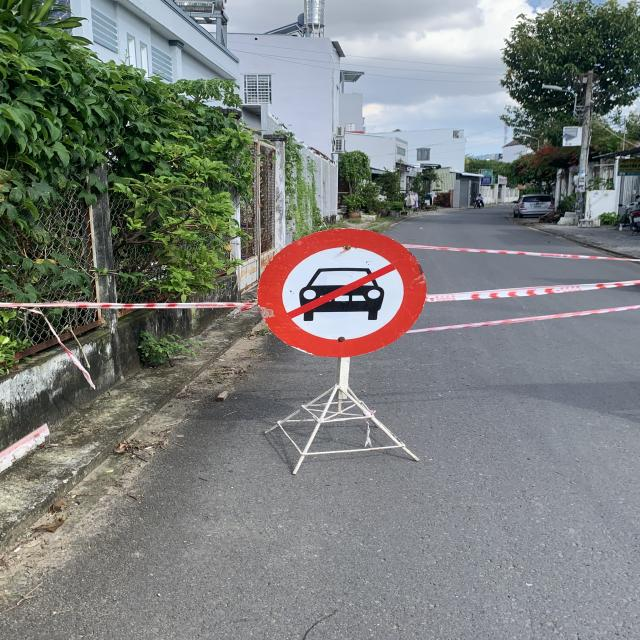Cam_O_To: (257, 227, 428, 360)
